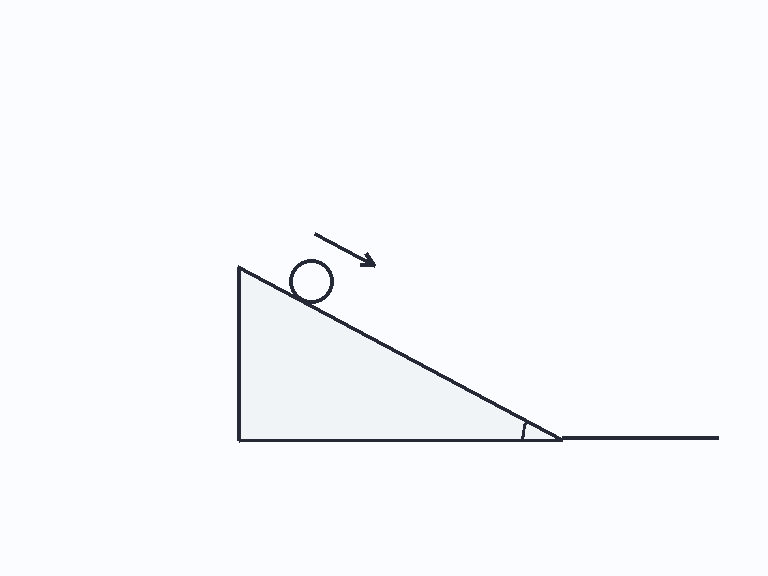ball: (287, 257, 335, 305)
ramp: (236, 265, 564, 441)
